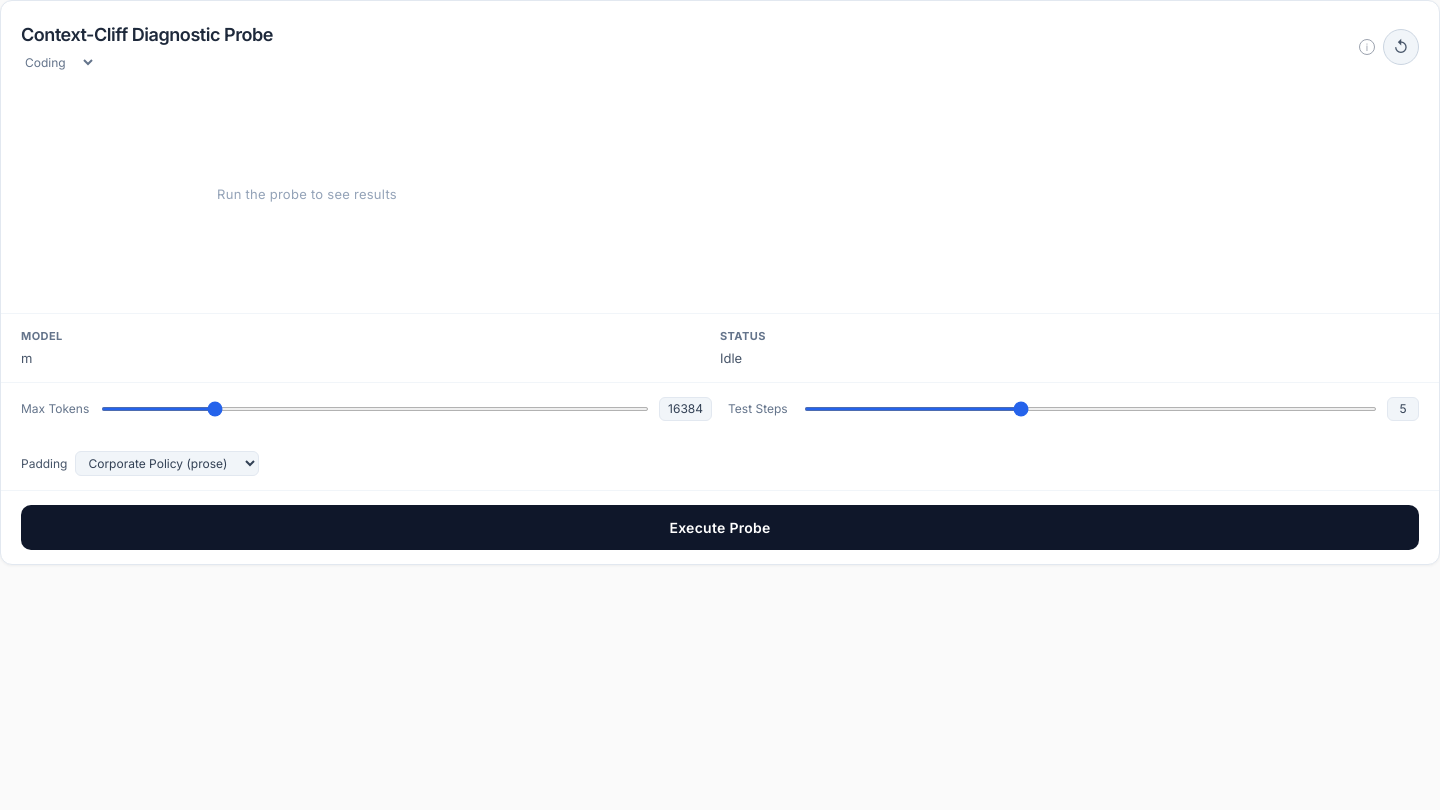
ContextCliffPanel › surfaces a backend error instead of a silent blank chart
What coordinates should you click on to do the following:
click the button with test id "cliff-run"
I would click on:
 (720, 528)
Its box is 21,505 -> 1419,550.
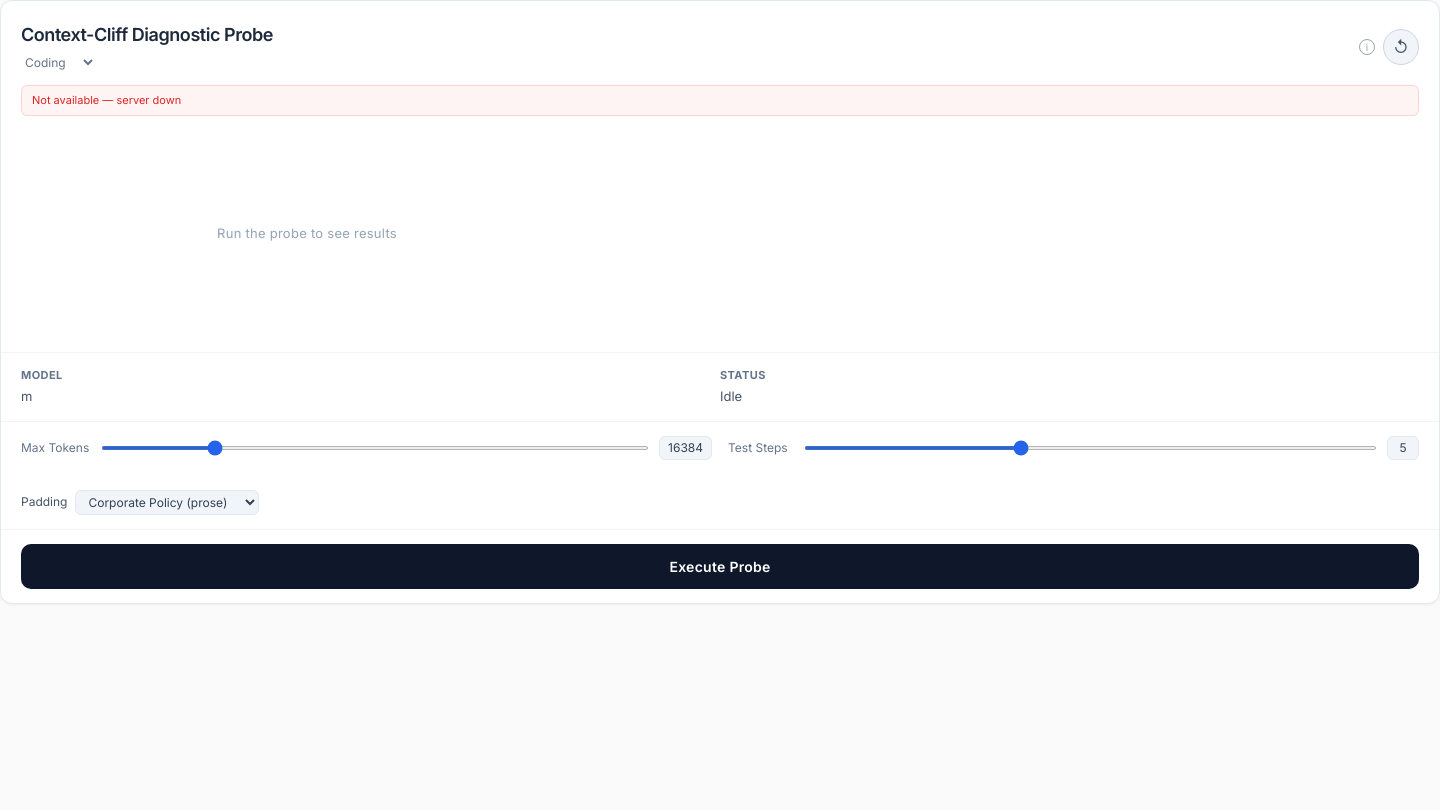
Now the text with test id "cliff-error" shows "server down", box 116,93 -> 181,107
